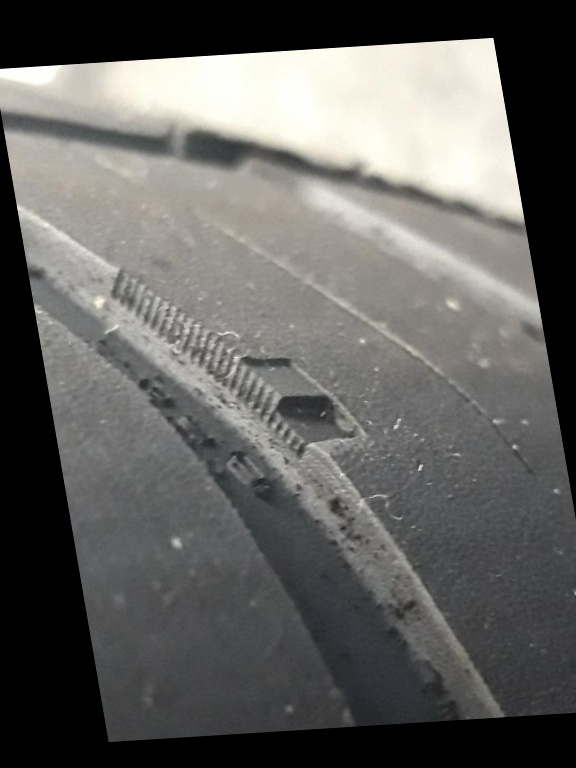temoin:25: (204, 329, 391, 481)
